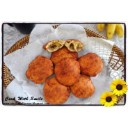poori: (26, 53, 53, 85), (43, 78, 69, 103), (56, 59, 80, 85), (79, 52, 103, 77), (71, 75, 94, 97)
